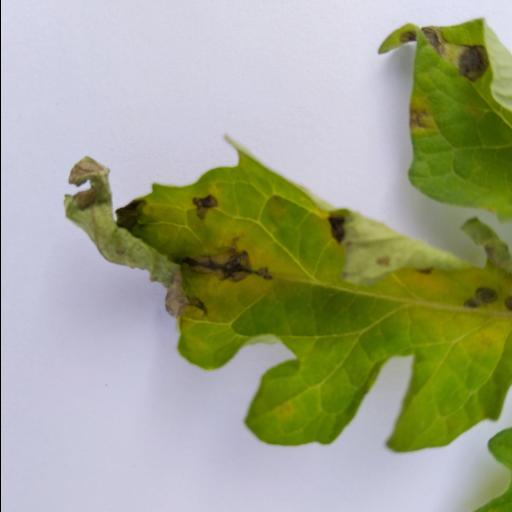disease_tomato: (62, 138, 512, 454)
